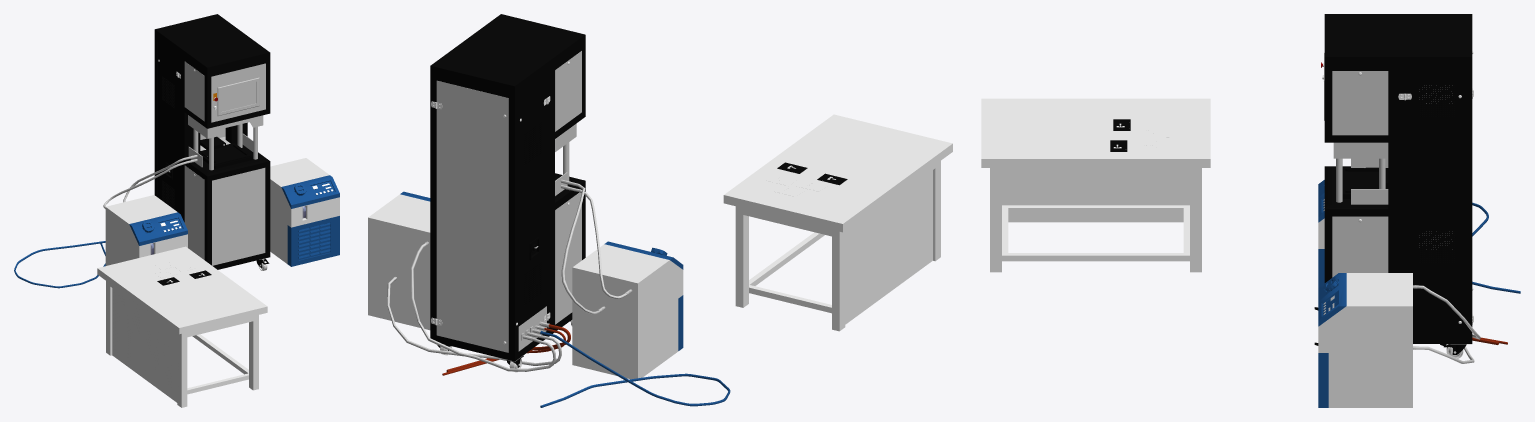
Rendered from RohrerEmpty.FBX.
3 renders of one model, left to right at view 1: azimuth 30°, elevation 25°; view 2: azimuth 150°, elevation 25°; view 3: azimuth 270°, elevation 25°, orthographic. The views are drawn at different scales.
Visible parts, largest first — view 1: Metal, Table, WhitePlast, Chiller1, Chiller002, Podstava, Shnuris, ShnurGlass; view 2: Metal, Table, Chiller002, WhitePlast, Chiller1, ShnurGlass, Shnuris; view 3: Metal, Table, Chiller1, WhitePlast, Podstava, Chiller002, ShnurGlass.
Part boxes in pixels (x1=…): Metal: x1=155, y1=14, x2=269, y2=265; Table: x1=97, y1=246, x2=267, y2=407; WhitePlast: x1=154, y1=29, x2=270, y2=269; Chiller1: x1=270, y1=158, x2=339, y2=266; Chiller002: x1=105, y1=195, x2=187, y2=265; Podstava: x1=198, y1=136, x2=252, y2=168; Shnuris: x1=14, y1=241, x2=105, y2=288; ShnurGlass: x1=103, y1=156, x2=190, y2=208; Metal: x1=430, y1=14, x2=584, y2=407; Table: x1=723, y1=114, x2=952, y2=331; Chiller002: x1=572, y1=241, x2=683, y2=379; WhitePlast: x1=430, y1=35, x2=585, y2=361; Chiller1: x1=368, y1=191, x2=430, y2=330; ShnurGlass: x1=387, y1=181, x2=626, y2=371; Shnuris: x1=442, y1=290, x2=730, y2=407; Metal: x1=1324, y1=14, x2=1472, y2=349; Table: x1=981, y1=98, x2=1210, y2=272; Chiller1: x1=1318, y1=273, x2=1412, y2=407; WhitePlast: x1=1324, y1=52, x2=1472, y2=343; Podstava: x1=1342, y1=167, x2=1388, y2=198; Chiller002: x1=1318, y1=180, x2=1324, y2=287; ShnurGlass: x1=1417, y1=285, x2=1480, y2=363.
Size of the model in its own units: 2.78 by 2.06 by 3.3.
